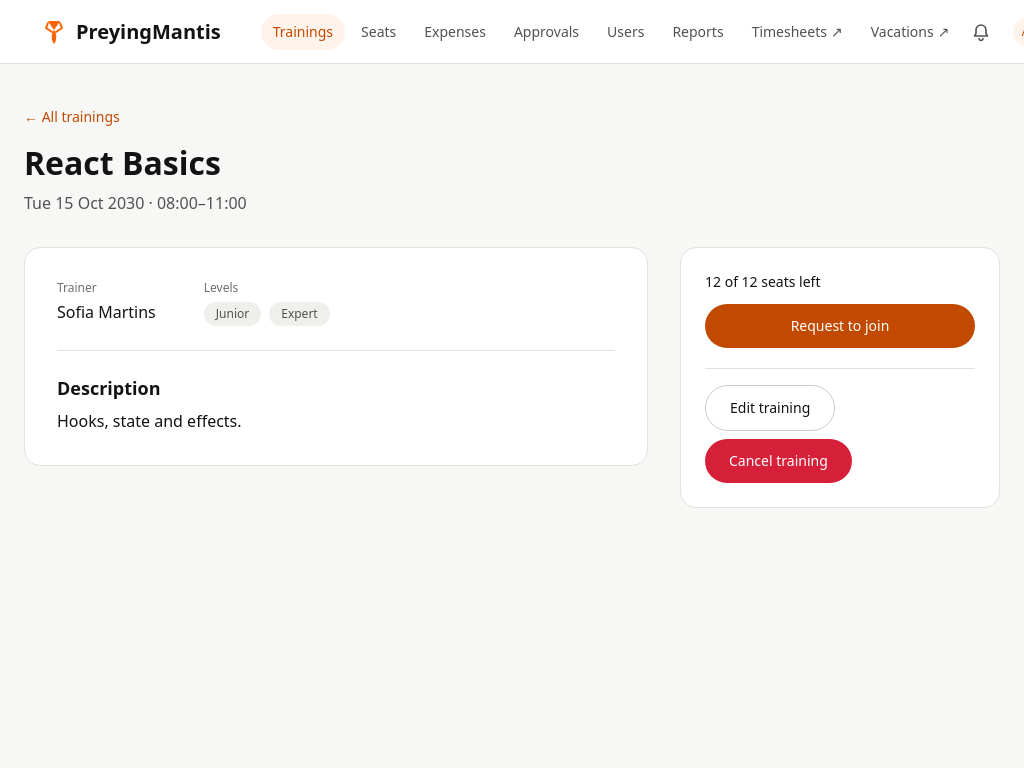
Test case: cancel training › shows why the API refused, inside the dialog
The width and height of the screenshot is (1024, 768).
Click the button "Cancel training" at (778, 461), box [705, 439, 852, 483]
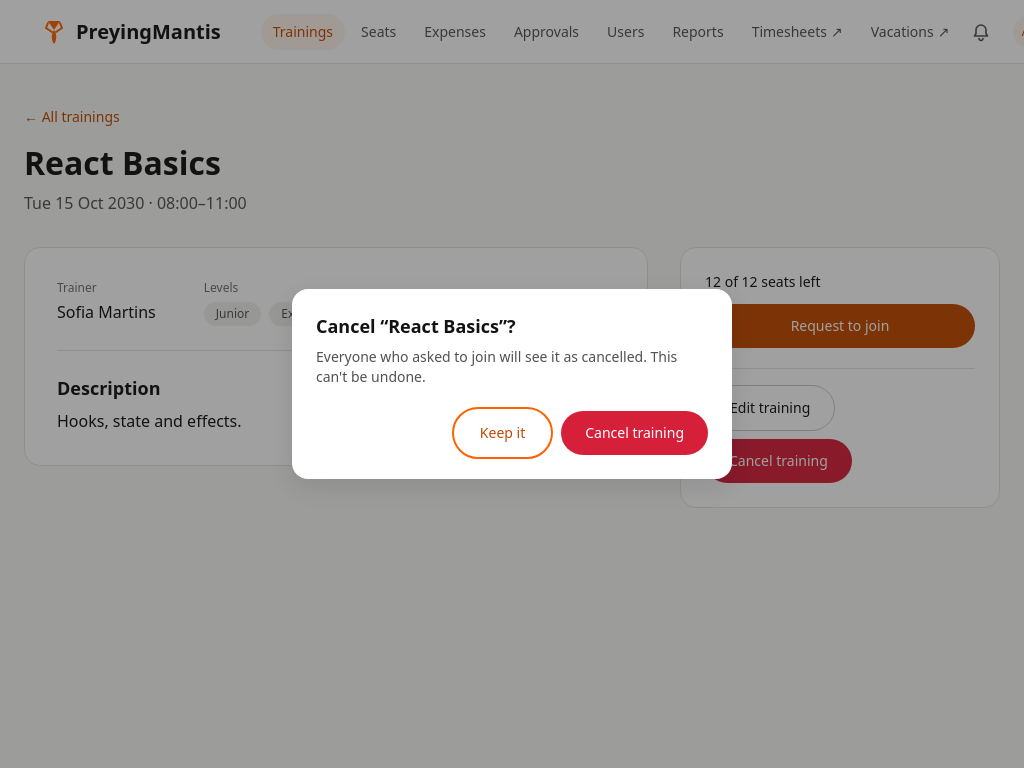
Click the button "Cancel training" at (635, 433), box [561, 411, 708, 455]
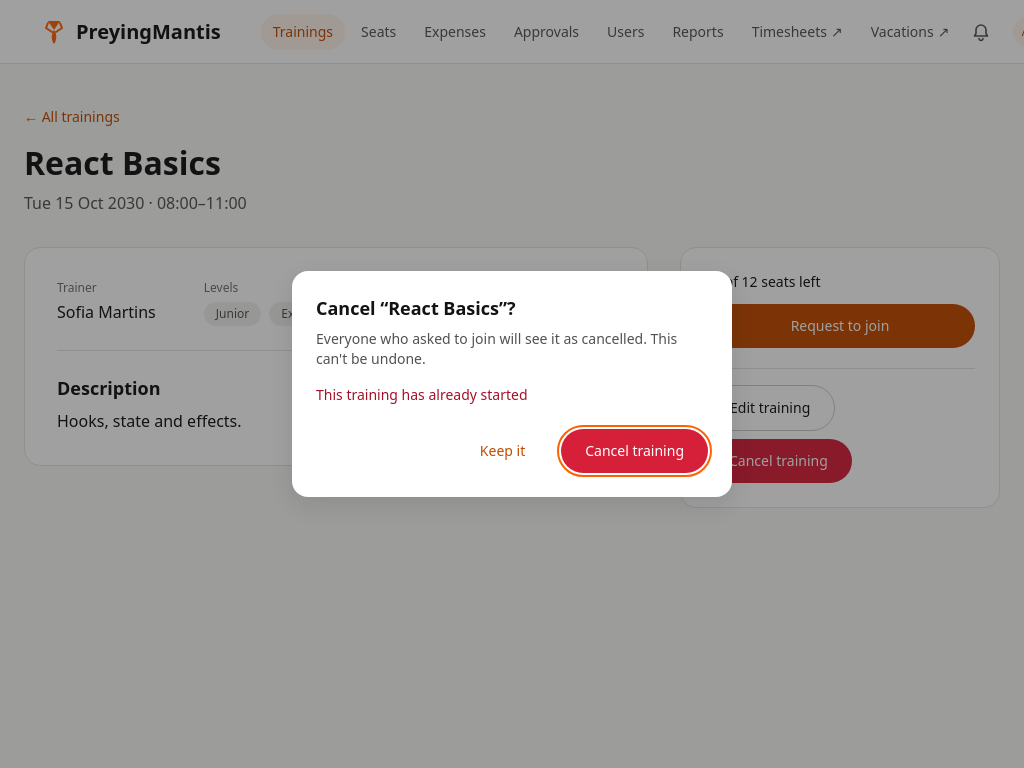
Result: the message reads "This training has already started" at [316, 385, 528, 404]
